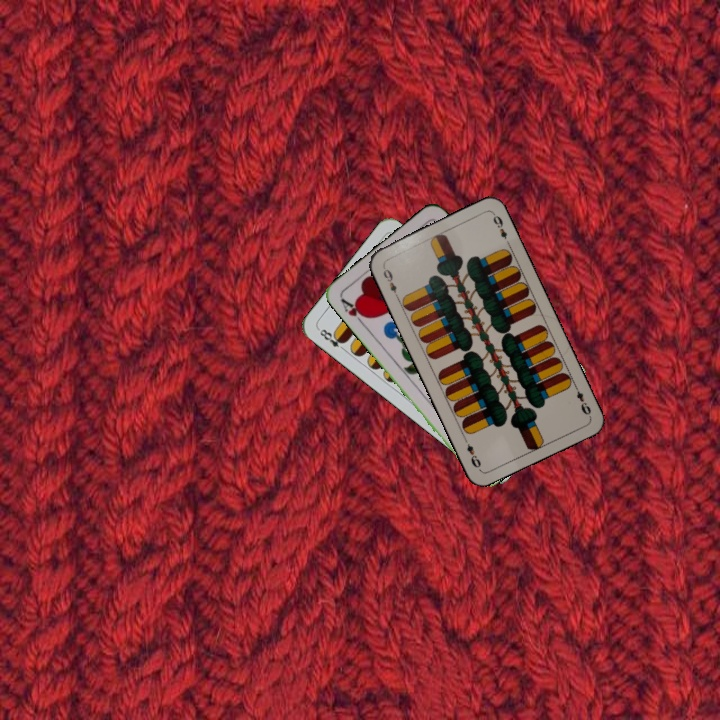E8: (314, 324, 349, 354)
E9: (570, 381, 594, 419), (379, 262, 401, 301)
HA: (337, 294, 371, 328)
